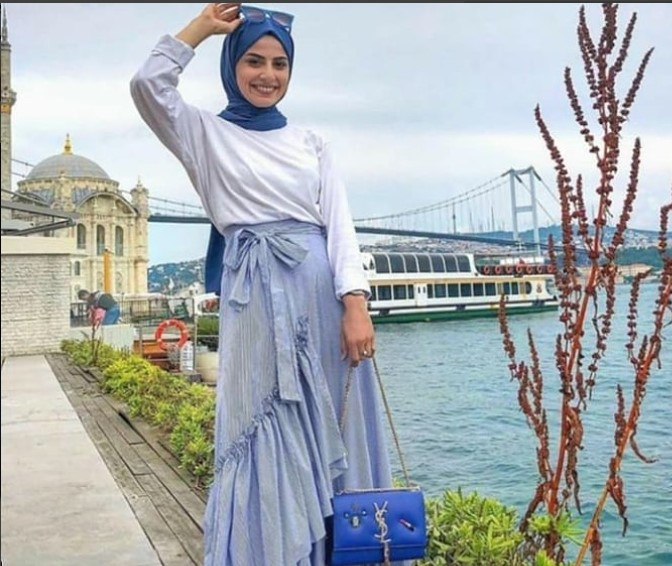face_no_mask: (223, 20, 293, 111)
